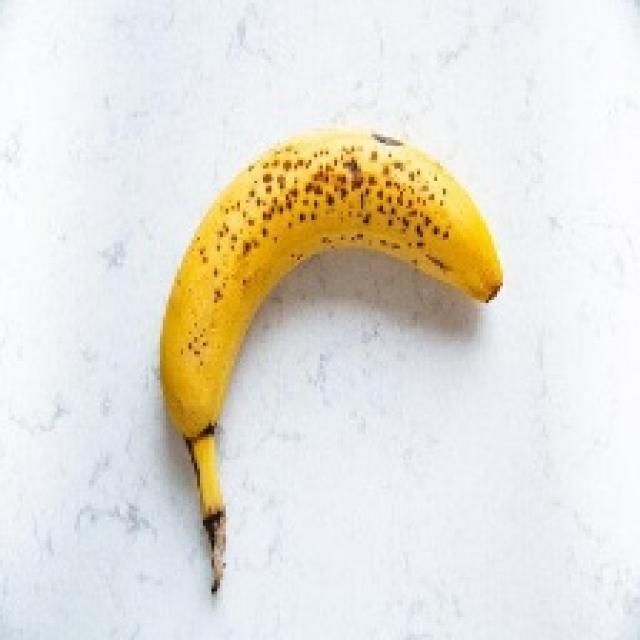Banana: (157, 126, 503, 591)
